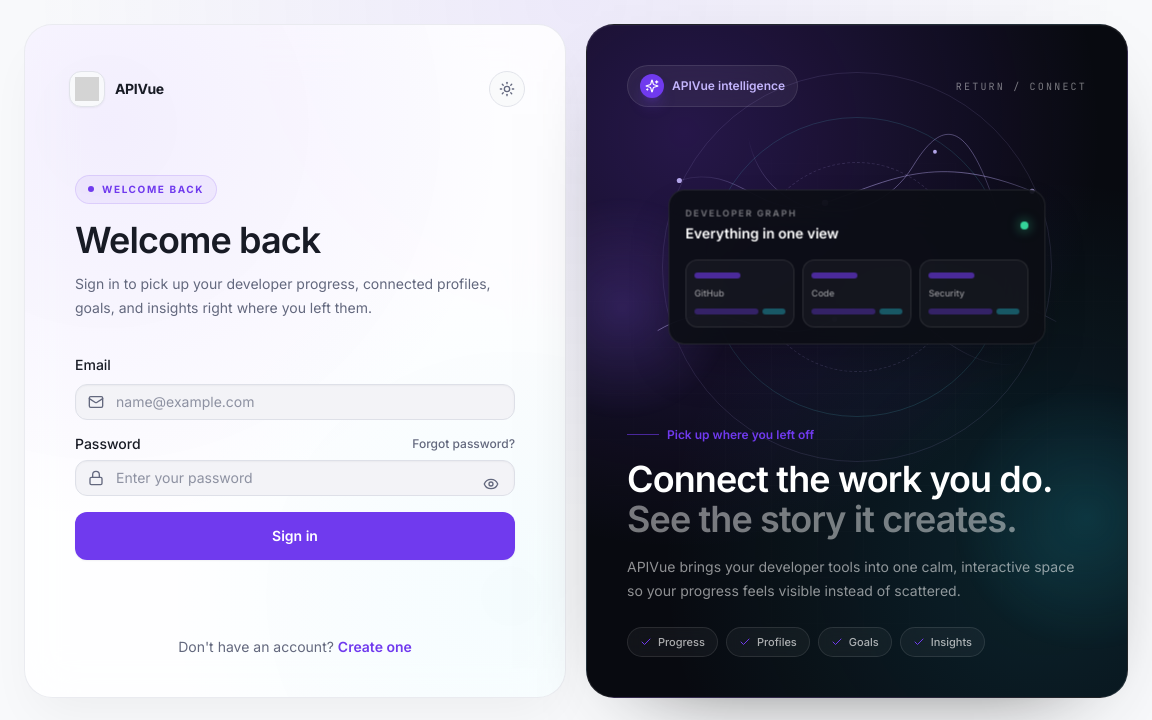
Test: LoginPage validation › exposes the password toggle state to assistive technology
What coordinates should you click on to do the following:
click the button named "show password"
I would click on:
 (491, 484)
Its box is x1=474 y1=467 x2=508 y2=501.
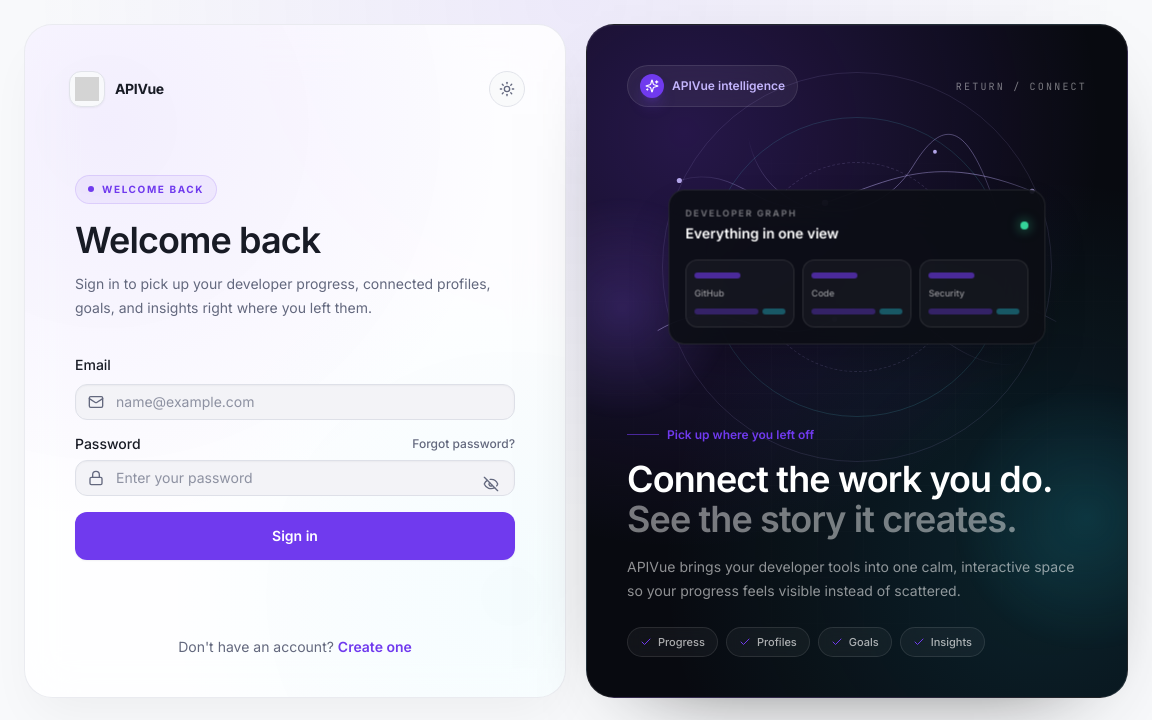
Check: the button named "hide password" is pressed, box x1=474 y1=467 x2=508 y2=501
